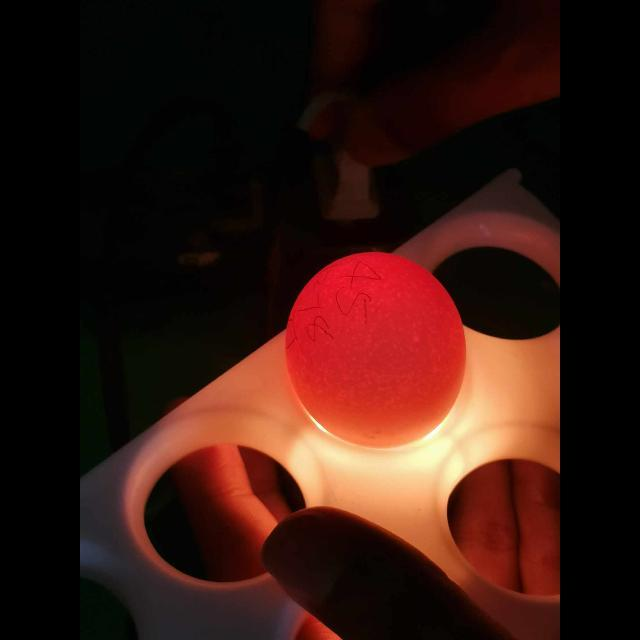Infertile: (288, 252, 468, 440)
